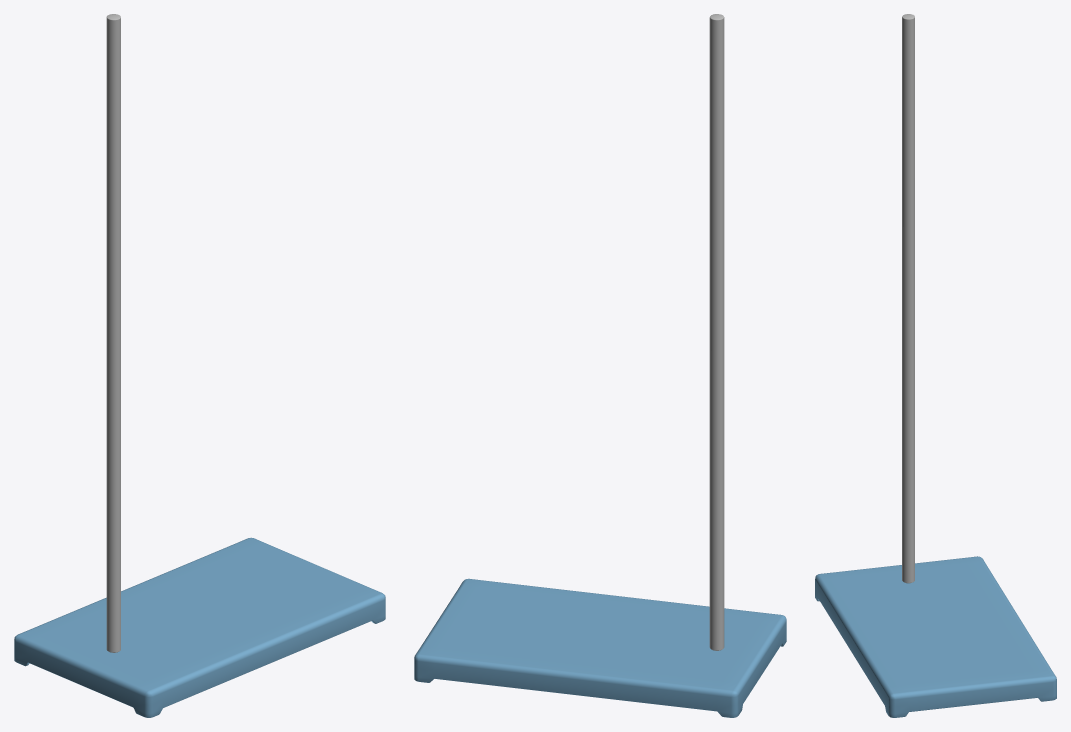
File: stand.fbx
3 views of the same model, side by side, from view 1: azimuth 30°, elevation 25°; view 2: azimuth 150°, elevation 25°; view 3: azimuth 270°, elevation 25° (orthographic). The views are drawn at different scales.
Parts seen in each view (by area): view 1: Retort Stand_dup_3.Shape.001; view 2: Retort Stand_dup_3.Shape.001; view 3: Retort Stand_dup_3.Shape.001.
Part boxes in pixels (<box>): Retort Stand_dup_3.Shape.001: <box>14,14,385,717</box>; Retort Stand_dup_3.Shape.001: <box>414,14,786,717</box>; Retort Stand_dup_3.Shape.001: <box>815,14,1056,717</box>.
Size of the model in its own units: 30.68 by 59.93 by 22.34.
